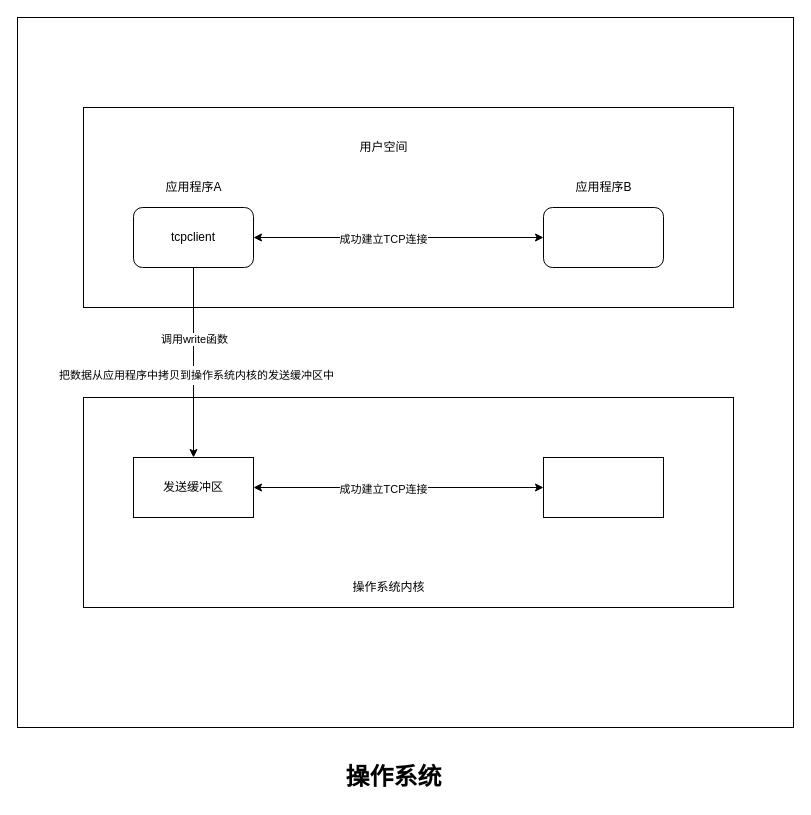
Some shapes in this 811 by 815 pixel diagram are drawn without their labels. The centre of each missing label's shape, as x and y in pixels:
"tcpserver" belongs at (x=603, y=237).
"接收缓冲区" belongs at (x=603, y=487).
